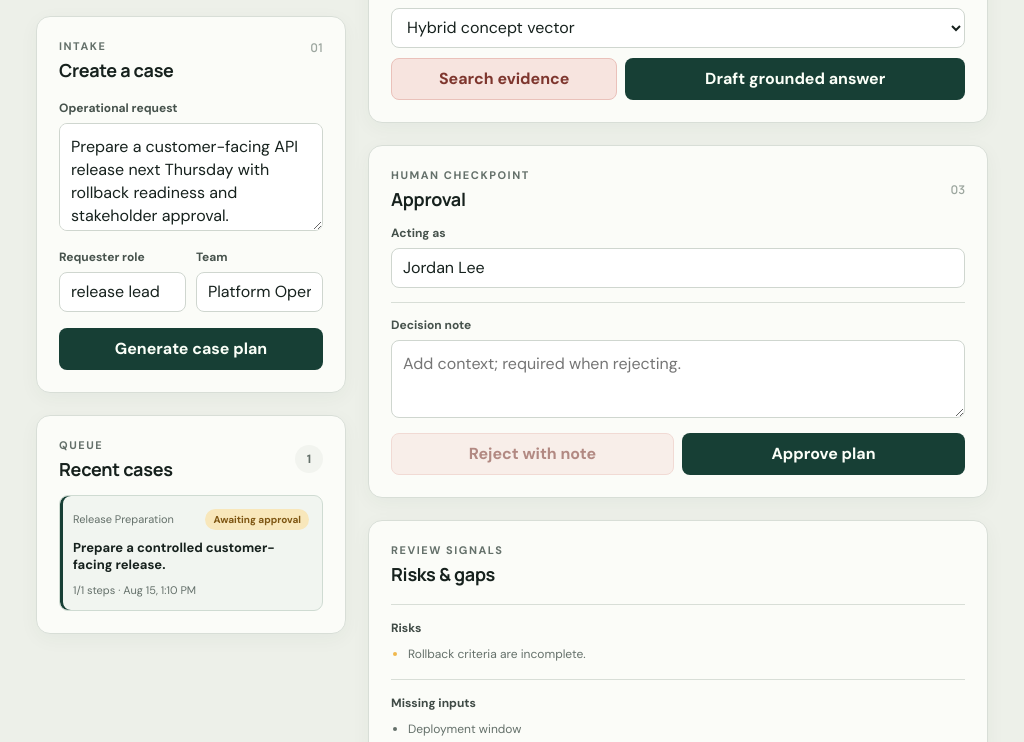
Test: Workflow Copilot › loads a pending case and records an approval decision
The width and height of the screenshot is (1024, 742).
(page scrolled)
Step 1. Type "Ready for handoff." into the text box labelled "Decision note" → coordinates (678, 379), box [391,340,965,418]
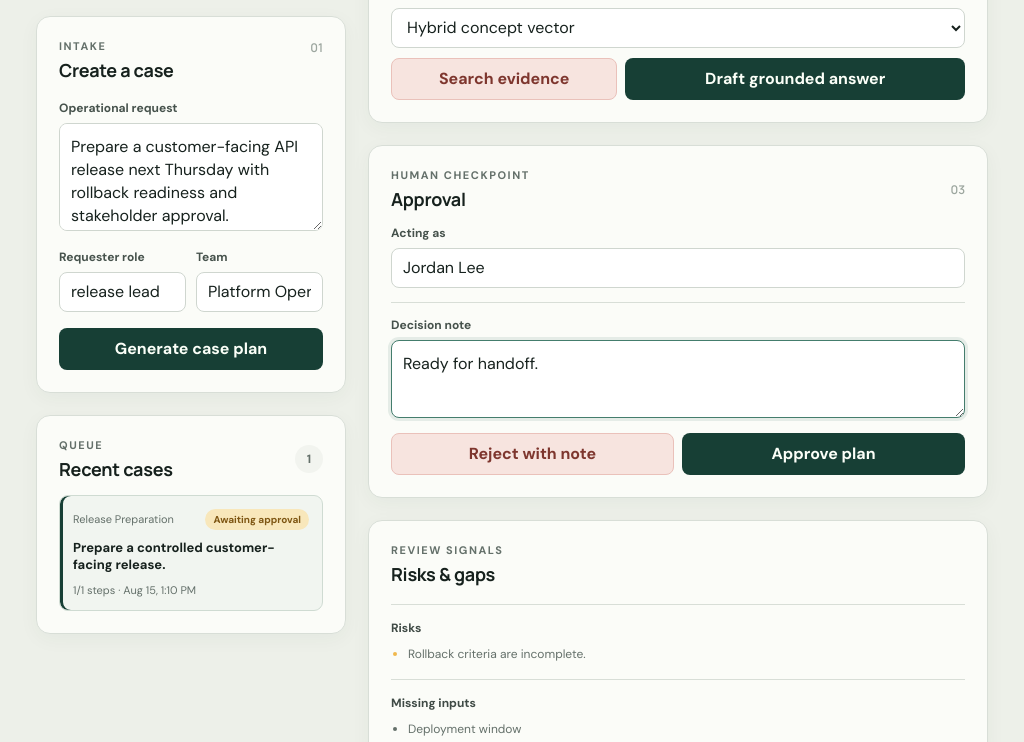
Step 2. Click the button "Approve plan" → coordinates (824, 454), box [682,433,965,475]
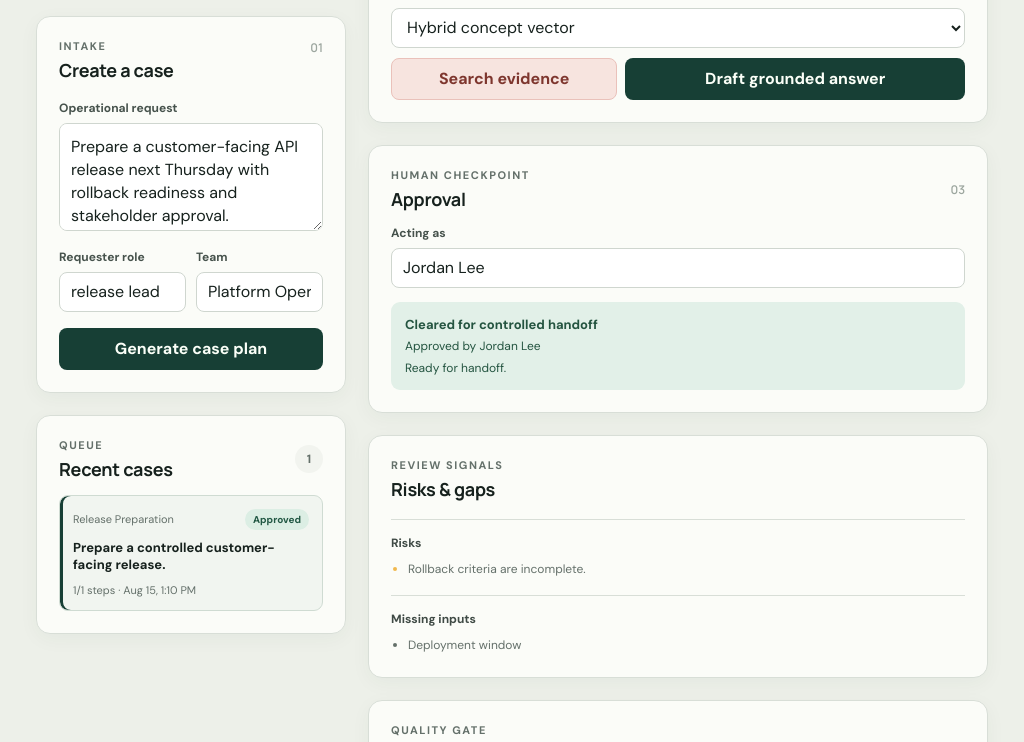
Expected: the text "Cleared for controlled handoff" is shown, [405,316,598,333]
Expected: the text "Approved by Jordan Lee" is shown, [405,338,541,354]
Expected: the text "Ready for handoff." is shown, [405,360,506,376]
